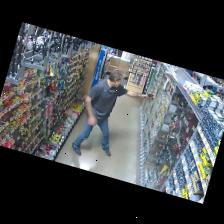person: (71, 69, 146, 156)
